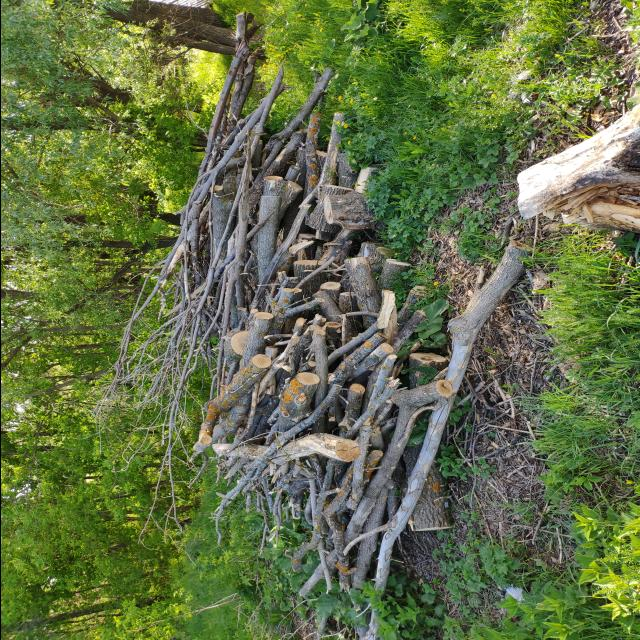restos de madeira: (514, 99, 640, 257), (408, 247, 511, 418), (360, 468, 430, 640), (383, 387, 463, 529), (198, 133, 255, 327), (338, 450, 398, 593), (266, 64, 330, 180), (166, 280, 218, 422), (132, 232, 200, 330), (212, 32, 266, 152), (204, 104, 262, 203), (207, 434, 365, 468), (372, 406, 424, 502), (277, 369, 345, 442), (241, 59, 293, 152), (268, 185, 320, 274), (354, 353, 408, 428), (302, 528, 338, 640), (190, 386, 248, 454), (108, 334, 164, 404), (182, 169, 214, 277), (228, 313, 266, 403), (321, 318, 384, 372), (404, 466, 452, 534), (288, 496, 326, 577), (205, 58, 238, 150), (260, 278, 302, 350), (322, 177, 372, 234), (304, 329, 332, 430), (233, 139, 256, 246), (342, 256, 380, 318), (209, 468, 252, 516), (162, 445, 182, 540), (324, 505, 350, 577), (388, 308, 426, 352), (267, 483, 288, 555), (378, 258, 414, 300), (407, 352, 448, 384), (346, 452, 370, 506), (327, 463, 354, 510), (180, 251, 194, 341), (336, 140, 360, 190), (398, 286, 428, 326), (319, 240, 352, 276), (189, 167, 219, 202), (360, 242, 394, 272), (315, 295, 344, 327), (256, 490, 270, 553), (228, 41, 250, 78), (381, 300, 399, 343), (240, 12, 261, 48), (305, 477, 319, 529), (340, 312, 362, 344), (334, 282, 354, 314), (212, 502, 224, 546), (235, 12, 248, 48), (312, 324, 326, 336), (293, 318, 305, 330), (280, 363, 292, 372)
